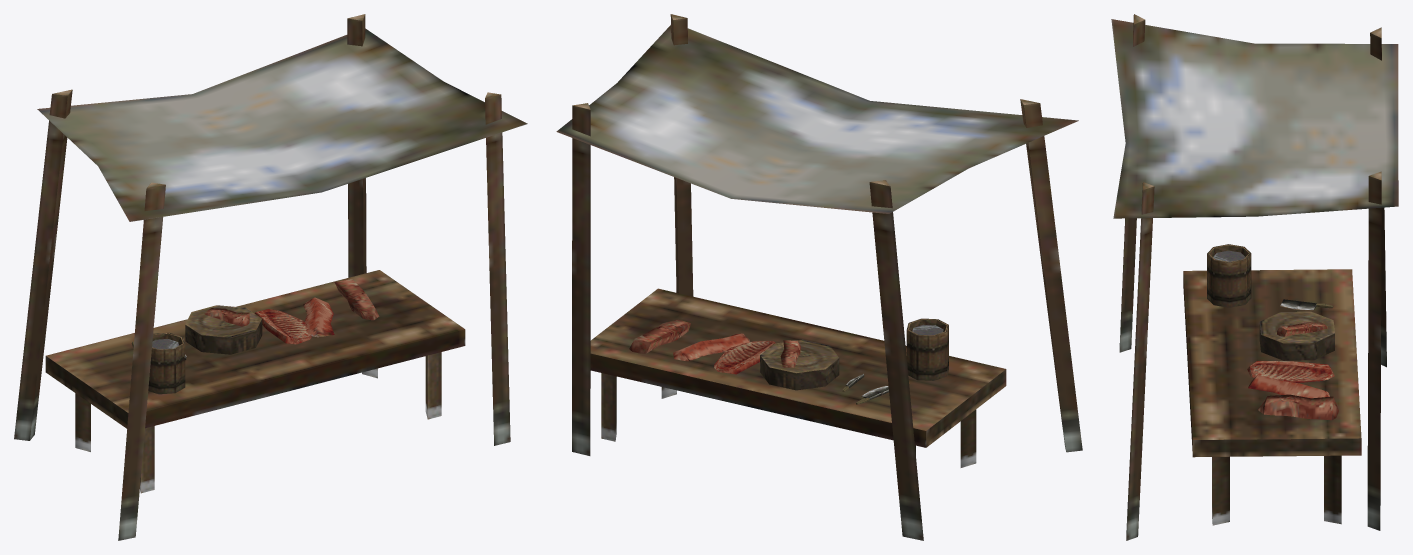
The model's file is oMscTanwei01A.FBX.
3 renders of one model, left to right at view 1: azimuth 30°, elevation 25°; view 2: azimuth 150°, elevation 25°; view 3: azimuth 270°, elevation 25°, orthographic. The views are drawn at different scales.
Visible parts, largest first — view 1: oMscTanwei01A; view 2: oMscTanwei01A; view 3: oMscTanwei01A.
Boxes of the visible parts, bbox=[...] form: oMscTanwei01A: bbox=[14, 14, 527, 540]; oMscTanwei01A: bbox=[556, 14, 1082, 540]; oMscTanwei01A: bbox=[1111, 14, 1398, 540].
Bounding box in the file's own units: 29.38 × 23.66 × 17.55.
1 material, 1 textured.
